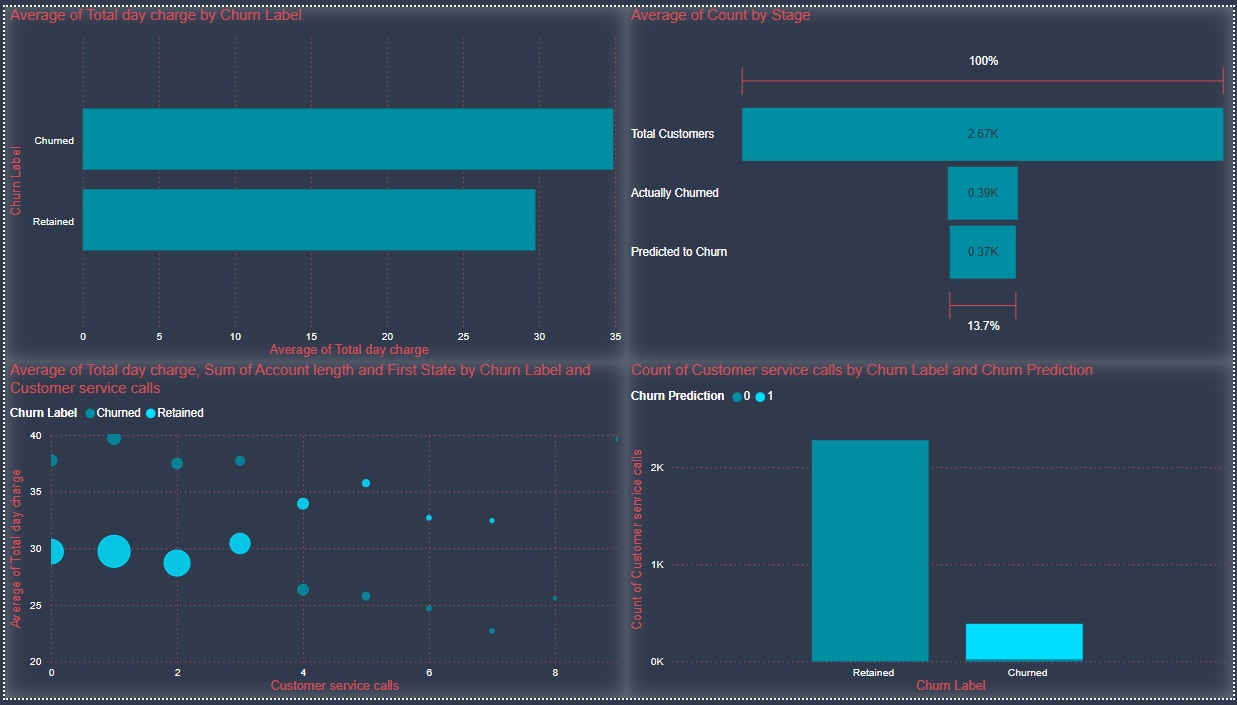

The dashboard page shown, as its layout file describes it:
{"tool":"powerbi","page":{"name":"Prediction Accuracy by Actual Churn","canvas":[1280,720],"ordinal":2},"visuals":[{"type":"barChart","fields":{"Y":["Avg(churn_with_predictions.Total day charge)"],"Category":["churn_with_predictions.Churn Label"]},"box":[0,0,647.5,369.9],"z":0},{"type":"scatterChart","fields":{"X":["churn_with_predictions.Customer service calls"],"Y":["Avg(churn_with_predictions.Total day charge)"],"Series":["churn_with_predictions.Churn Label"],"Size":["Sum(churn_with_predictions.Account length)"]},"box":[0,369.9,647.5,350.1],"z":1},{"type":"funnel","fields":{"Category":["ChurnFunnel.Stage"],"Y":["Avg(ChurnFunnel.Count)"]},"box":[646.6,0,632.2,369.9],"z":2},{"type":"columnChart","fields":{"Category":["churn_with_predictions.Churn Label"],"Y":["CountNonNull(churn_with_predictions.Customer service calls)"],"Series":["churn_with_predictions.Churn Prediction"]},"box":[647,370,632,350],"z":3}]}

Visuals, with their boxes in screenshot pixels (x1, y1, x2, y2), scaled from the page's 1280x720 canvas onto the 1237x705 screenshot:
barChart - Avg(churn_with_predictions.Total day charge) x churn_with_predictions.Churn Label: 0, 0, 626, 362
scatterChart - churn_with_predictions.Customer service calls x Avg(churn_with_predictions.Total day charge): 0, 362, 626, 704
funnel - ChurnFunnel.Stage x Avg(ChurnFunnel.Count): 625, 0, 1236, 362
columnChart - churn_with_predictions.Churn Label x CountNonNull(churn_with_predictions.Customer service calls): 625, 362, 1236, 704
